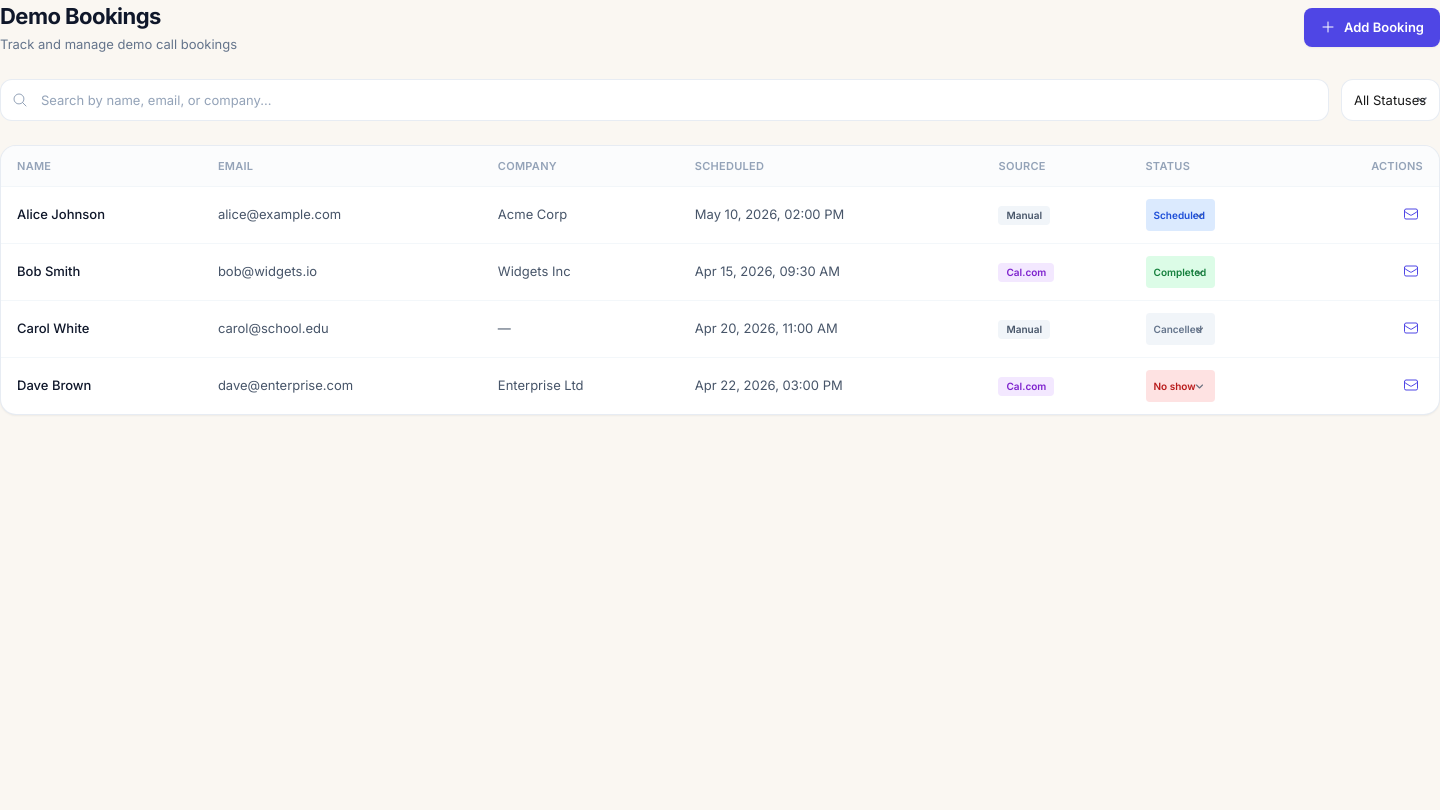
Test: DemoBookingsPage › Create Booking modal › shows "Name is required" Zod error on empty submit
This screenshot has width=1440, height=810.
Click the button "Add Booking".
click(1372, 27)  # box [1304,8,1439,47]
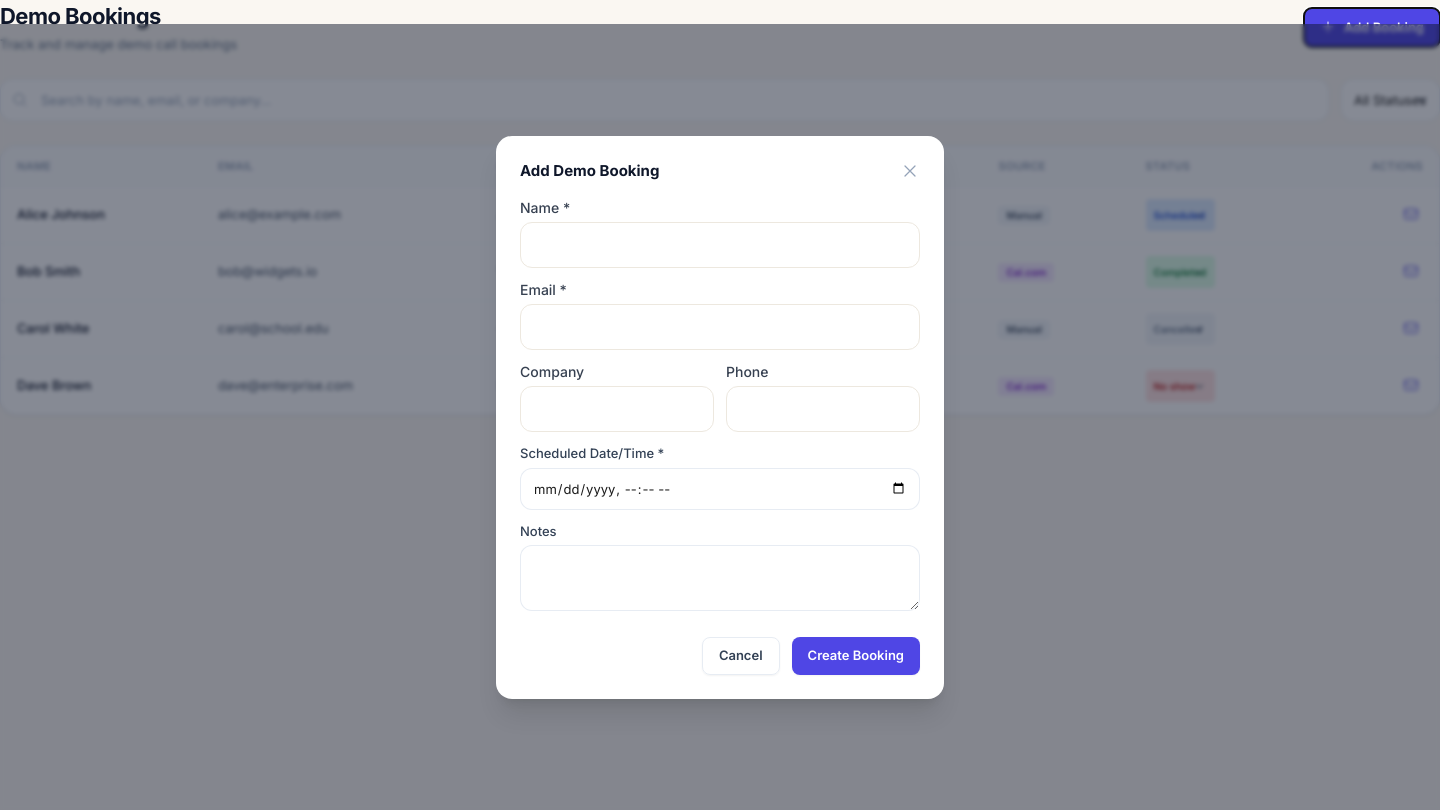
Click the button "Create Booking".
click(856, 656)  # box [792,637,920,674]
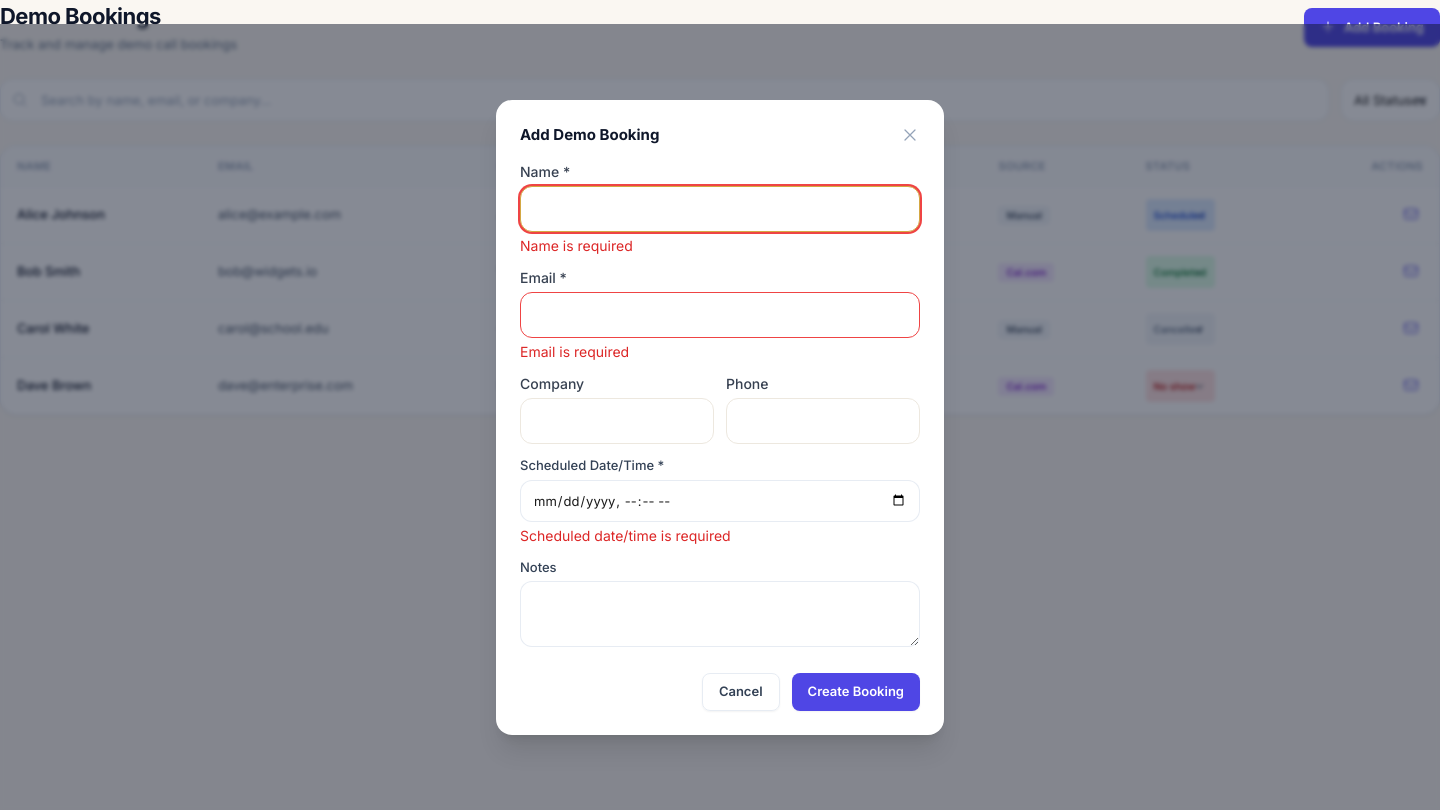
Result: the text "Name is required" is shown at [520,237,633,254]
